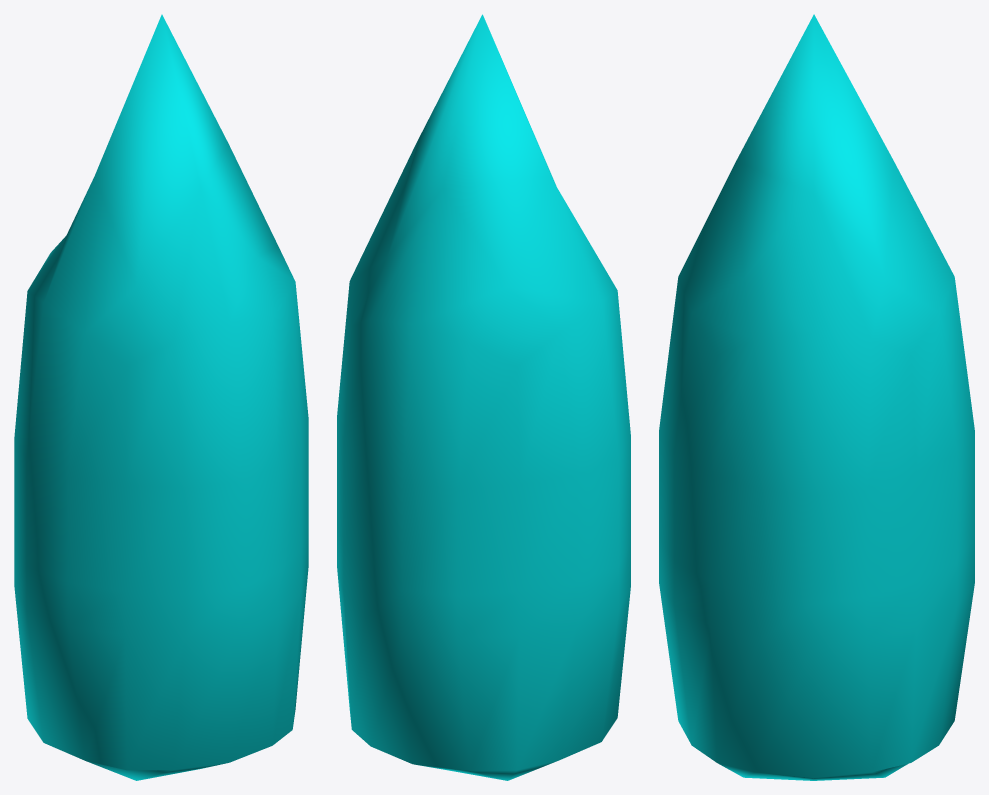
The model's file is CRYSTALSINGLEFINAL.fbx.
3 renders of one model, left to right at view 1: azimuth 30°, elevation 25°; view 2: azimuth 150°, elevation 25°; view 3: azimuth 270°, elevation 25°, orthographic.
Visible parts, largest first — view 1: crystal_singular; view 2: crystal_singular; view 3: crystal_singular.
Boxes of the visible parts, x1,y1,x2,y2 form: crystal_singular: [14, 14, 308, 780]; crystal_singular: [337, 14, 630, 780]; crystal_singular: [659, 14, 974, 780].
Size of the model in its own units: 1.67 by 4.32 by 1.68.
